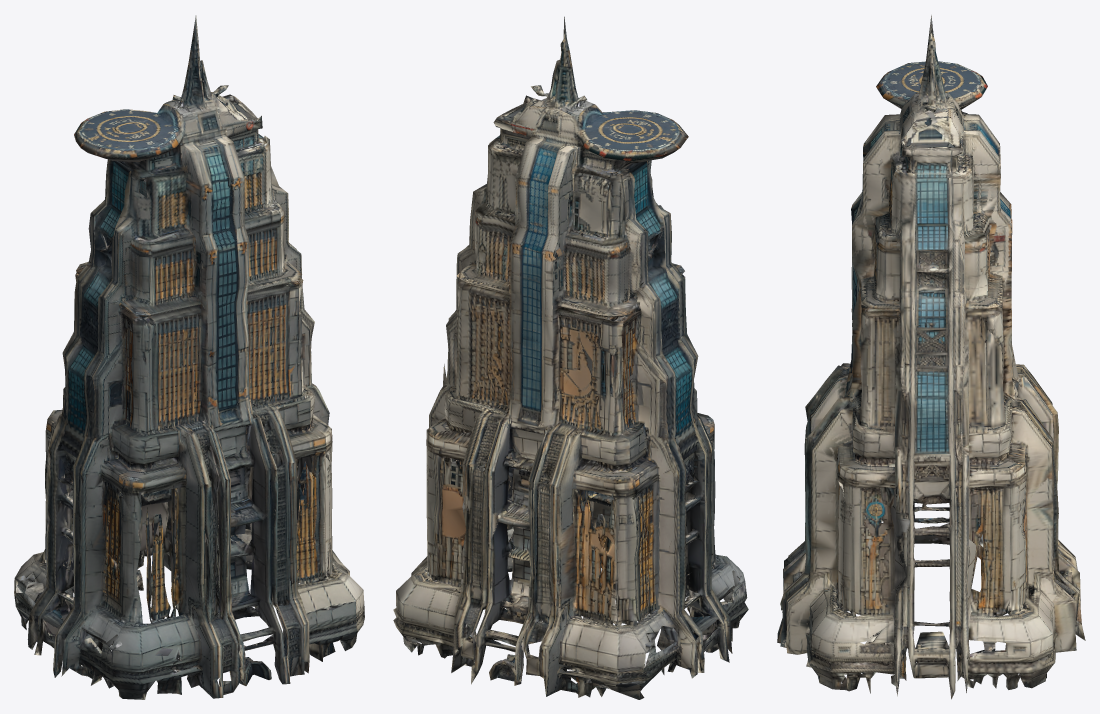
File: ColonyTower_Central.fbx
3 renders of one model, left to right at view 1: azimuth 30°, elevation 25°; view 2: azimuth 150°, elevation 25°; view 3: azimuth 270°, elevation 25°, orthographic.
Parts seen in each view (by area): view 1: texture_mapping; view 2: texture_mapping; view 3: texture_mapping.
Boxes of the visible parts, x1,y1,x2,y2 form: texture_mapping: (14,15,364,699); texture_mapping: (393,16,748,699); texture_mapping: (777,15,1085,699).
Size of the model in its own units: 0.4902 by 0.4498 by 1.
1 material, 1 textured.
